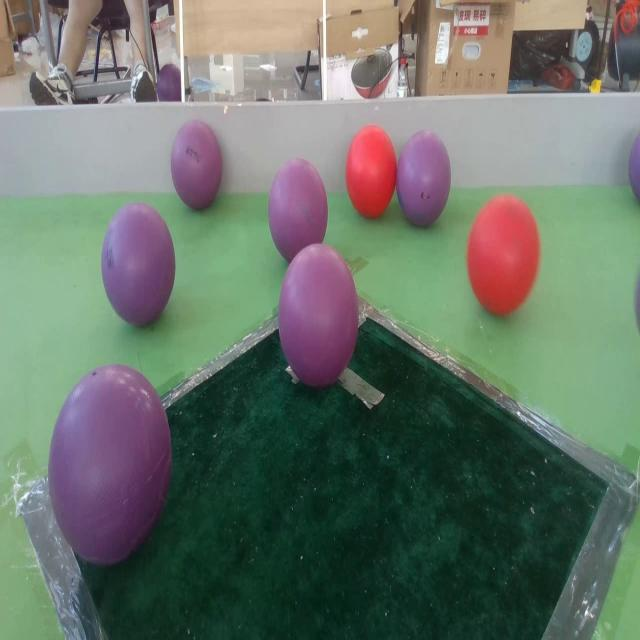invalid: (52, 366, 171, 572), (275, 247, 359, 386), (100, 204, 174, 320), (268, 157, 332, 264), (167, 105, 225, 212), (396, 128, 453, 222)
red: (466, 193, 541, 315), (346, 126, 396, 219)
